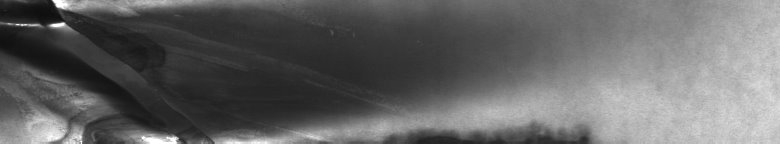ke: (4, 4, 255, 136)
